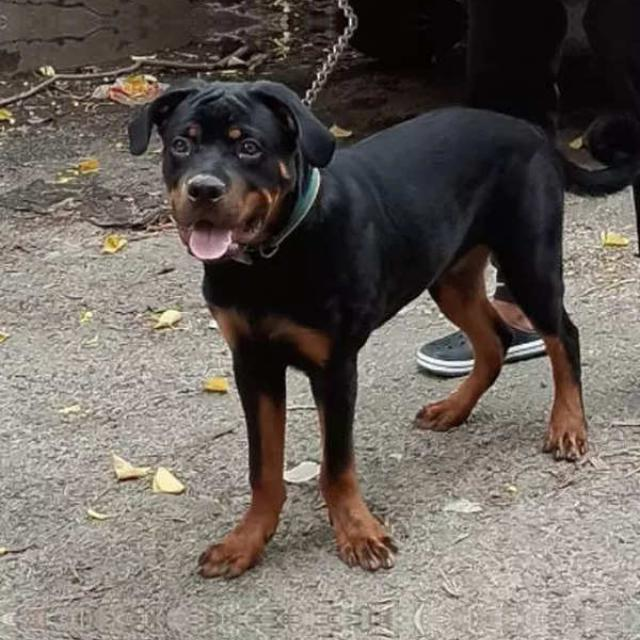dog: (120, 57, 342, 280)
